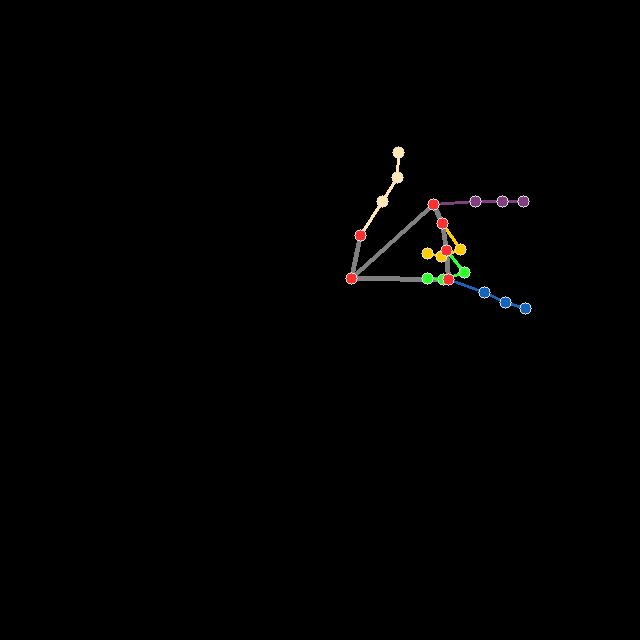spiderman: (346, 147, 532, 314)
